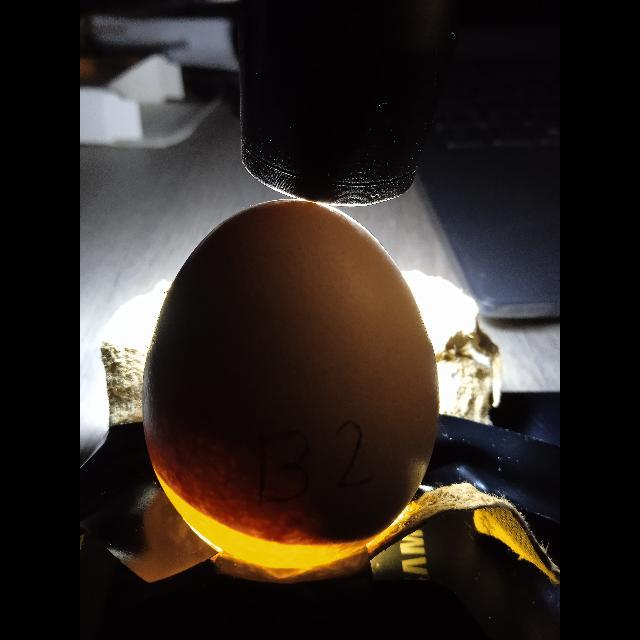Fertile: (139, 201, 443, 574)
